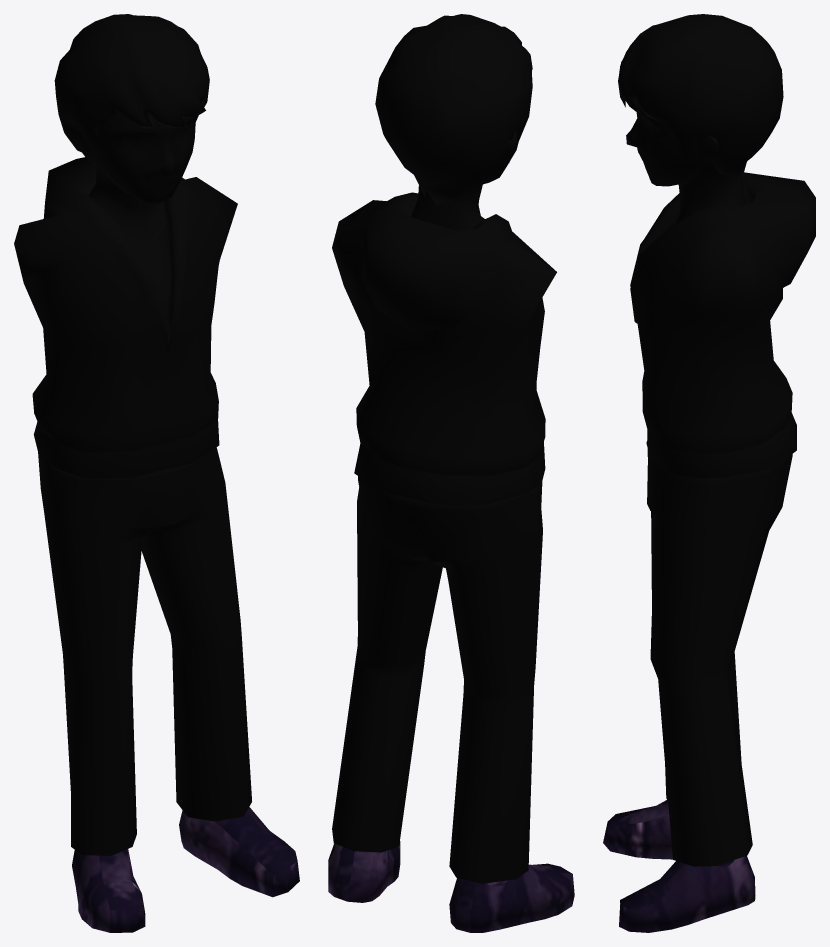
File: Statue_greek_01_Art.glb
The picture shows the model from 3 angles, left to right: view 1: azimuth 30°, elevation 25°; view 2: azimuth 150°, elevation 25°; view 3: azimuth 270°, elevation 25°; orthographic projection. The views are drawn at different scales.
Parts seen in each view (by area): view 1: Statue_greek_01_Art; view 2: Statue_greek_01_Art; view 3: Statue_greek_01_Art.
Boxes of the visible parts, box(x1,y1,x2,y2) form: Statue_greek_01_Art: box(14, 14, 299, 932); Statue_greek_01_Art: box(328, 14, 574, 932); Statue_greek_01_Art: box(603, 14, 815, 932).
Size of what is drawn, in the model's own units: 0.5746 by 1.95 by 0.4402.
1 material, 1 textured.
